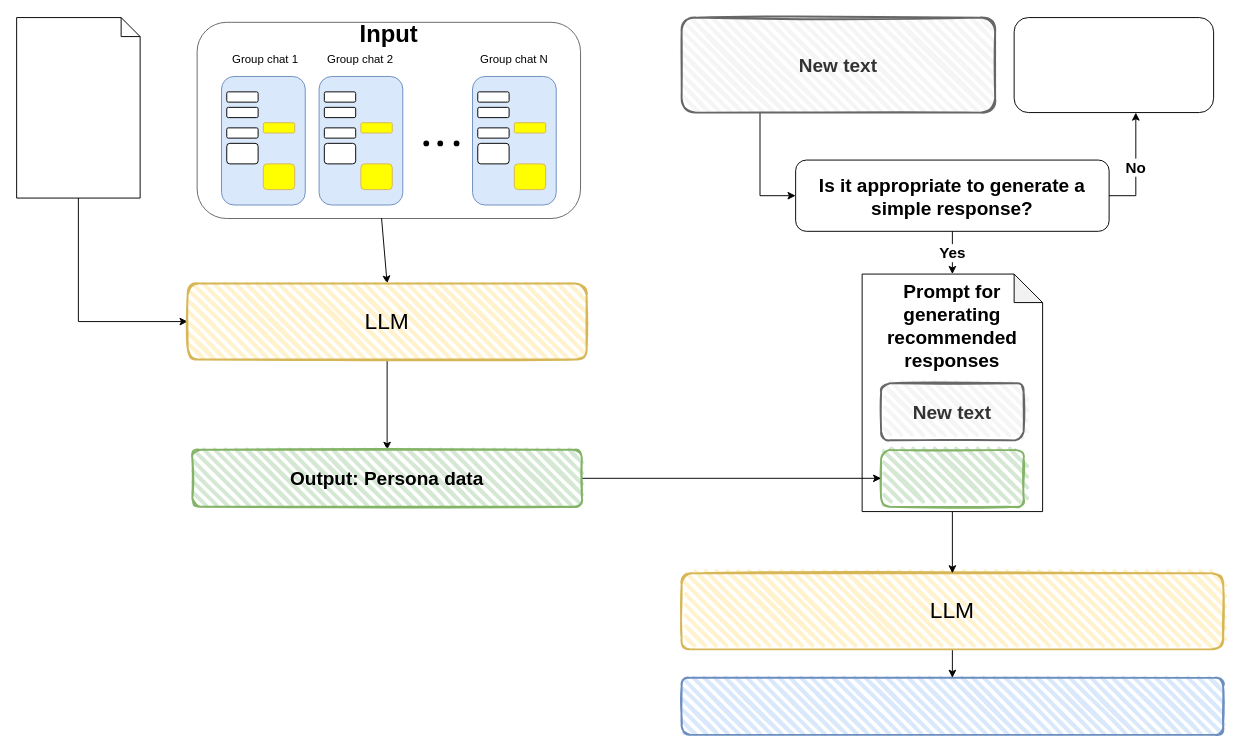
Image size: 1241x751. Some labels were removed from this diagram. Here are the shapes that lost their labels. From the top down, the centre of each, then its label:
At point (1113, 65): "The agent does not respond to messages requiring user intervention.".
At point (78, 107): "Data Extraction Prompt".
At point (952, 477): "Persona data".
At point (952, 705): "Output: 추천 응답 3개".
